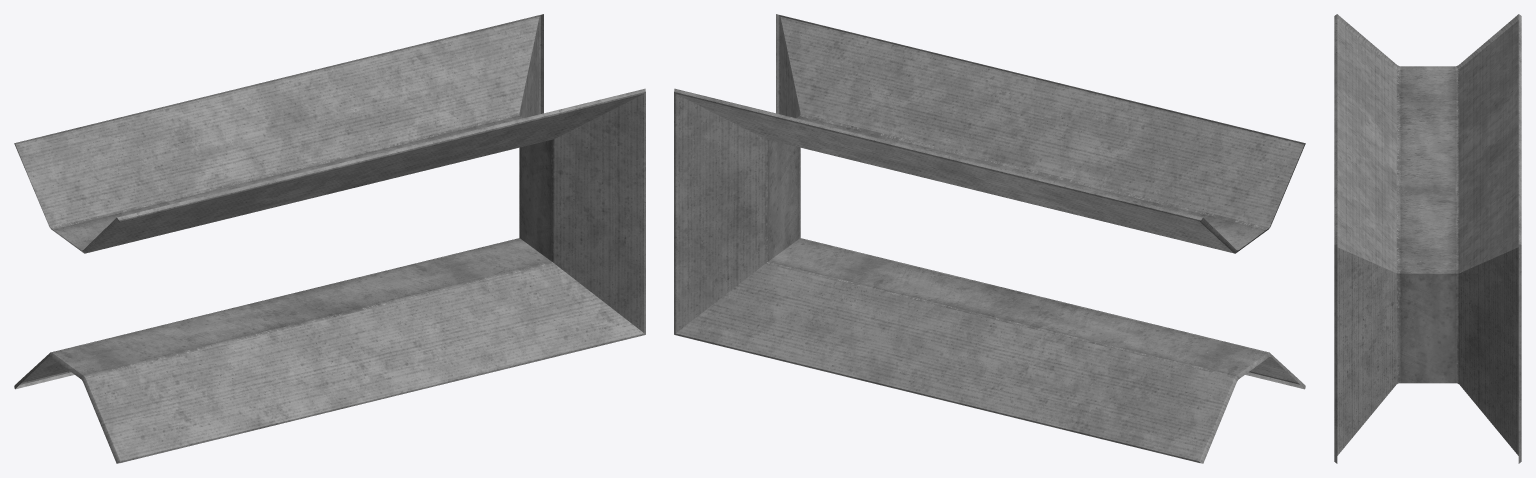
File: SM_Opening_05.fbx
3 renders of one model, left to right at view 1: azimuth 30°, elevation 25°; view 2: azimuth 150°, elevation 25°; view 3: azimuth 270°, elevation 25°, orthographic. The views are drawn at different scales.
Visible parts, largest first — view 1: SM_Opening_05; view 2: SM_Opening_05; view 3: SM_Opening_05.
Boxes of the visible parts, <box> form: SM_Opening_05: <box>14,14,645,463</box>; SM_Opening_05: <box>674,14,1305,463</box>; SM_Opening_05: <box>1334,14,1521,463</box>.
Size of the model in its own units: 300 by 134 by 103.
